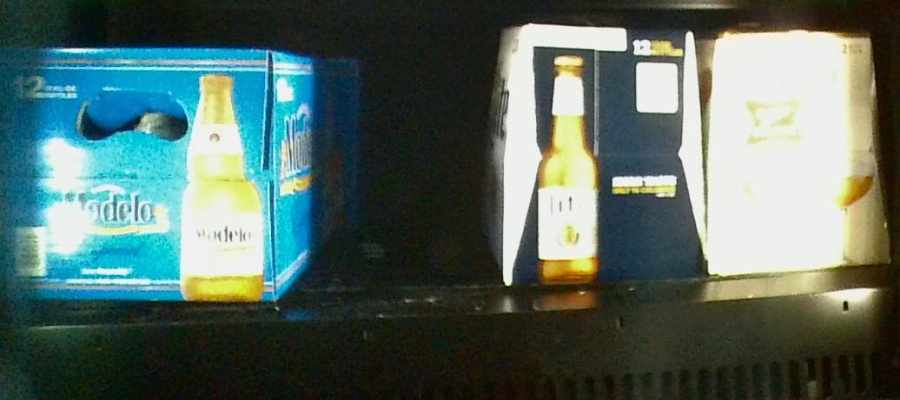bottle: (4, 49, 331, 302), (488, 22, 705, 286), (708, 29, 886, 267)
